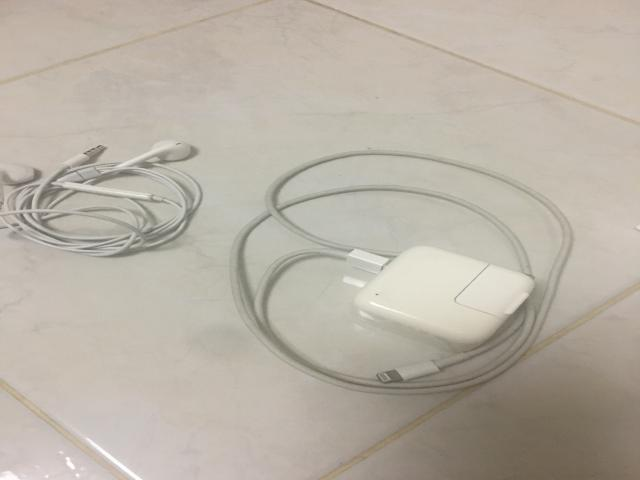wire: (230, 151, 572, 395), (0, 140, 202, 257)
